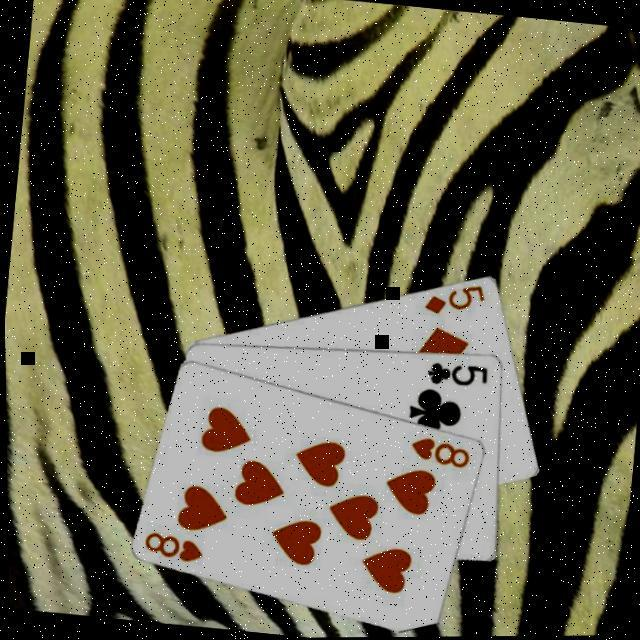5C: (422, 358, 490, 393)
5D: (420, 278, 490, 322)
8H: (406, 434, 474, 474), (140, 528, 207, 567)
